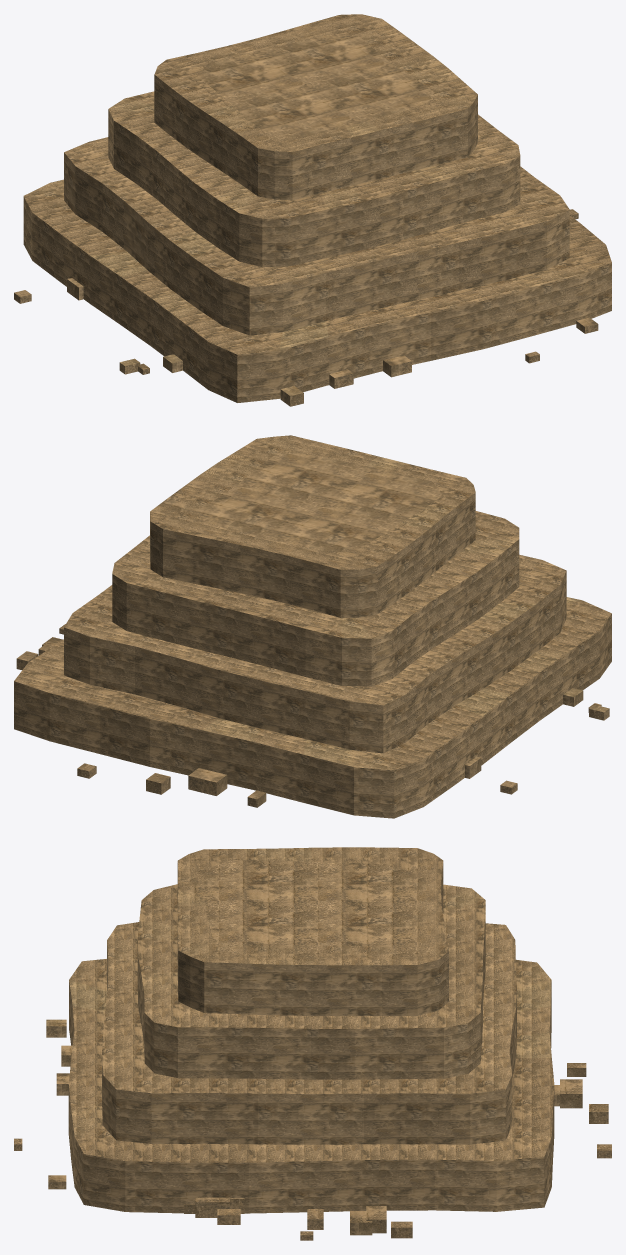
File: giza_g3b.glb
The picture shows the model from 3 angles, top to bottom: view 1: azimuth 30°, elevation 25°; view 2: azimuth 150°, elevation 25°; view 3: azimuth 270°, elevation 25°; orthographic projection. The views are drawn at different scales.
Visible parts, largest first — view 1: g3b; view 2: g3b; view 3: g3b.
Part boxes in pixels (bbox=[...]): g3b: bbox=[14, 14, 611, 406]; g3b: bbox=[14, 435, 611, 818]; g3b: bbox=[14, 847, 611, 1240].
Size of the model in its own units: 37.3 by 13.6 by 36.25.
Materials: 1 (1 with a texture image).
